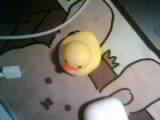duck: (48, 25, 113, 80)
